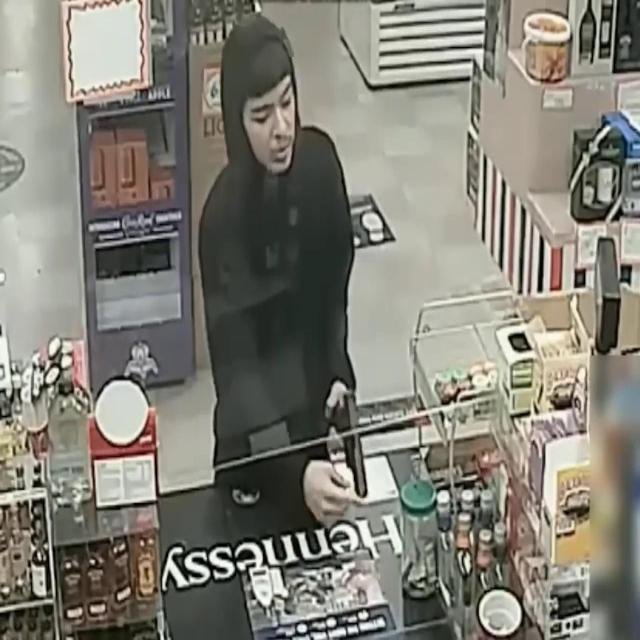pistol: (332, 389, 372, 492)
